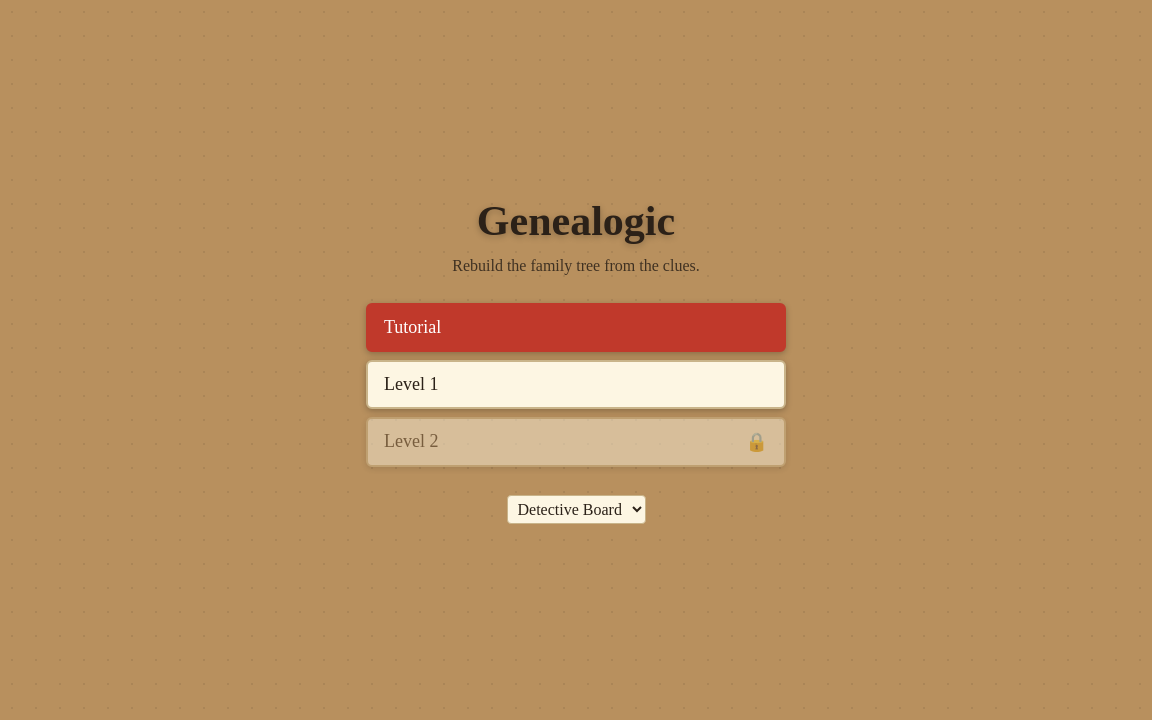
Scenario: App › shows the tutorial overlay on the tutorial level
Step 1. Click the button "Tutorial" → (413, 326), box [366, 302, 786, 352]
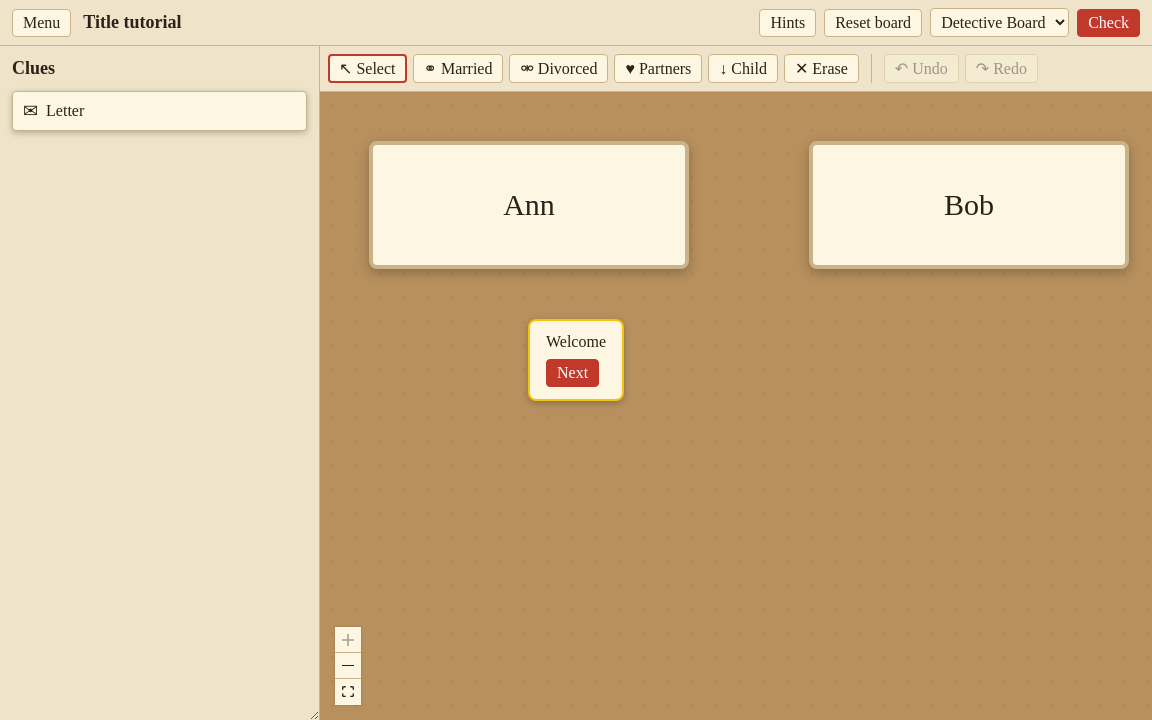
Expected: the element named "Tutorial" shows "Welcome", [546, 333, 606, 350]
